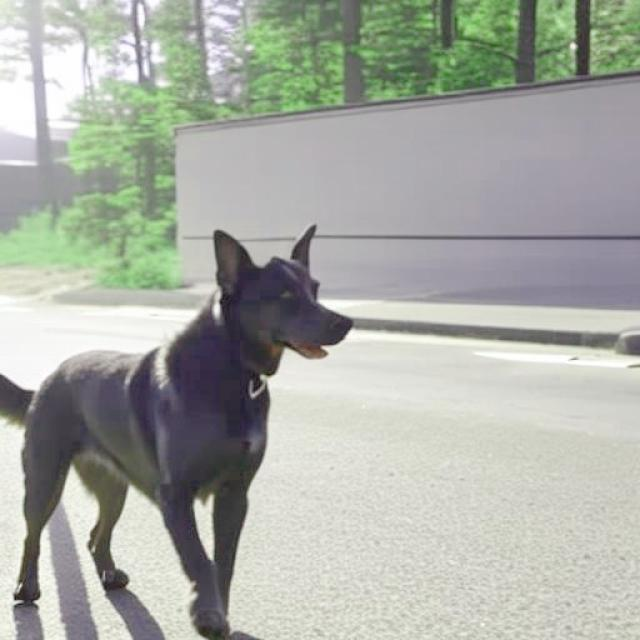Dog: (0, 223, 355, 640)
